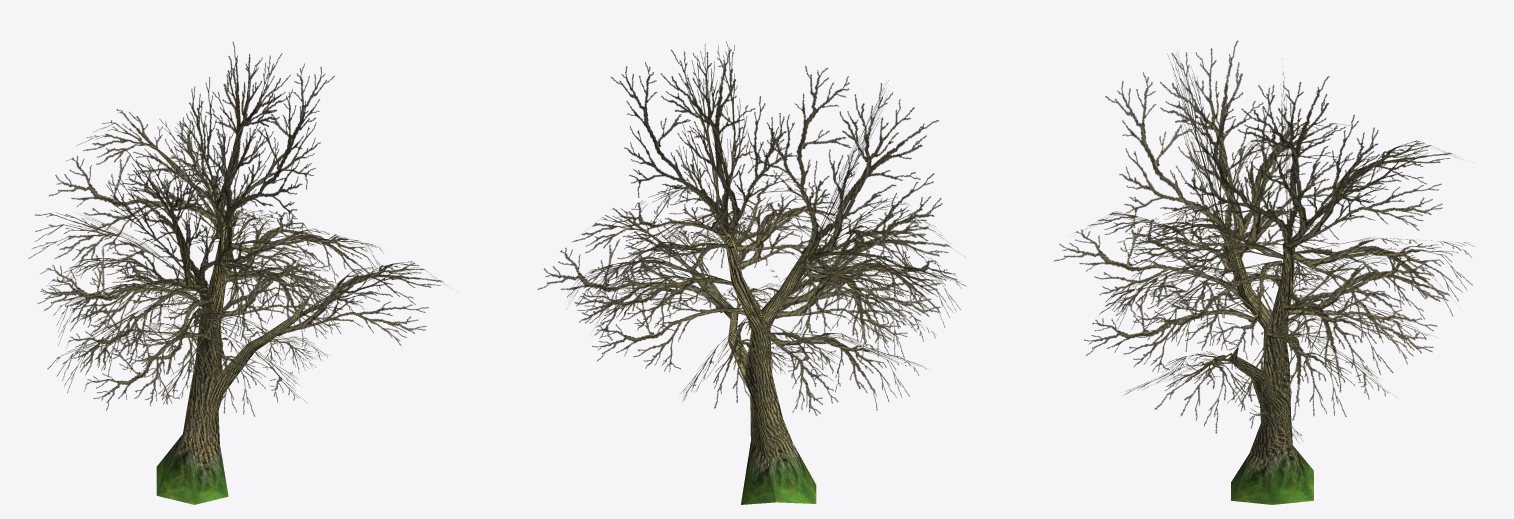
Rendered from tree6_17.glb.
3 views of the same model, side by side, from view 1: azimuth 30°, elevation 25°; view 2: azimuth 150°, elevation 25°; view 3: azimuth 270°, elevation 25° (orthographic). The views are drawn at different scales.
Visible parts, largest first — view 1: tree6_17; view 2: tree6_17; view 3: tree6_17.
Part boxes in pixels (x1=…): tree6_17: x1=28, y1=42, x2=446, y2=504; tree6_17: x1=537, y1=41, x2=966, y2=504; tree6_17: x1=1054, y1=40, x2=1474, y2=504.
Size of the model in its own units: 12 by 11.69 by 10.45.
3 materials, 3 textured.
